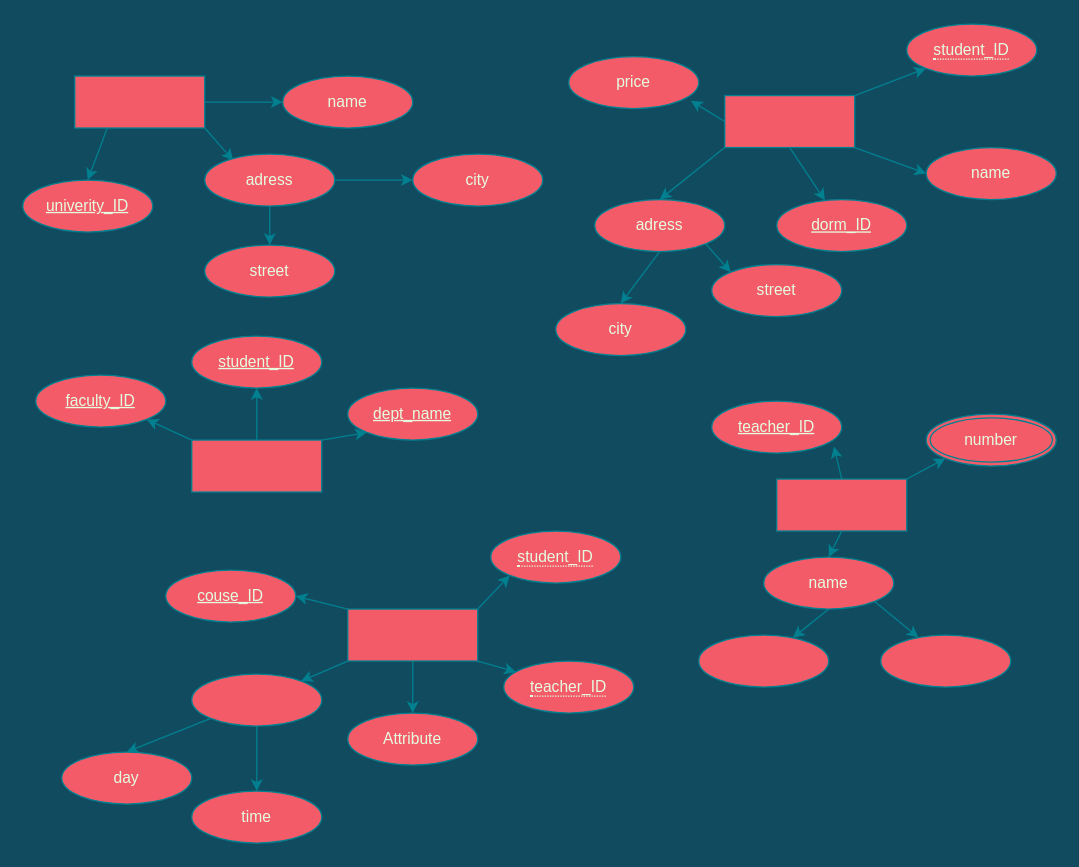
Some shapes in this 1079 by 867 pixel diagram are drawn without their labels. The shapes that lost their labels are listed below. From the top down, each one's centre as x and y in pixels, then its label:
At point 139,101: "university".
At point 789,121: "dormitory".
At point 256,465: "office_of_register".
At point 841,504: "teacher".
At point 412,634: "course".
At point 763,660: "lastname".
At point 945,660: "firstname".
At point 256,699: "schedule".
